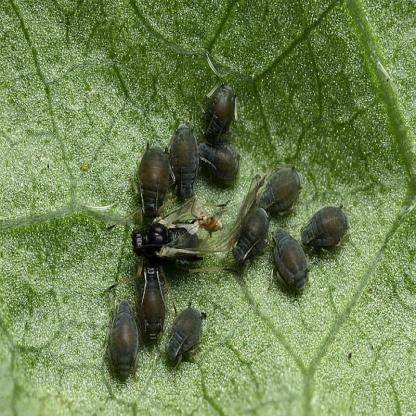aphid: (127, 211, 230, 271), (230, 205, 274, 275), (108, 290, 140, 386), (266, 223, 307, 297), (252, 159, 300, 217), (167, 118, 200, 198), (197, 82, 236, 148), (302, 199, 347, 256), (135, 140, 169, 213), (136, 262, 167, 342), (165, 300, 203, 362), (197, 136, 240, 186)
